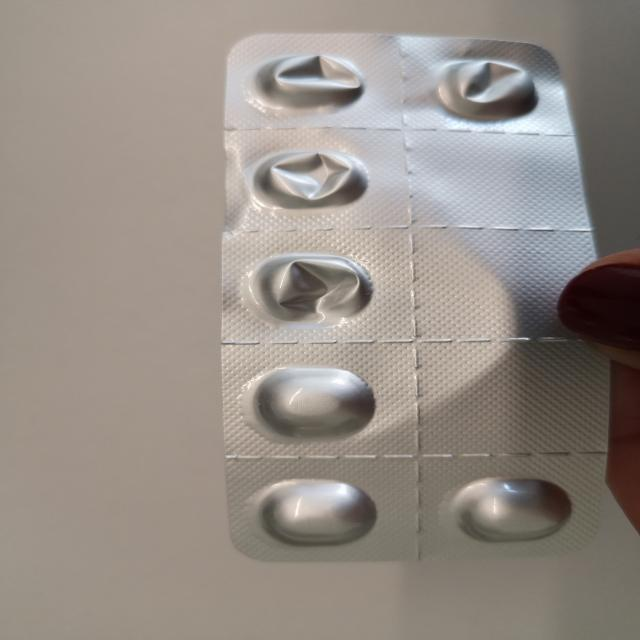Empty: (234, 244, 385, 328), (422, 41, 546, 128), (241, 142, 378, 216), (247, 47, 383, 111)
Pill: (243, 352, 381, 440), (247, 474, 400, 550), (443, 472, 583, 548)
